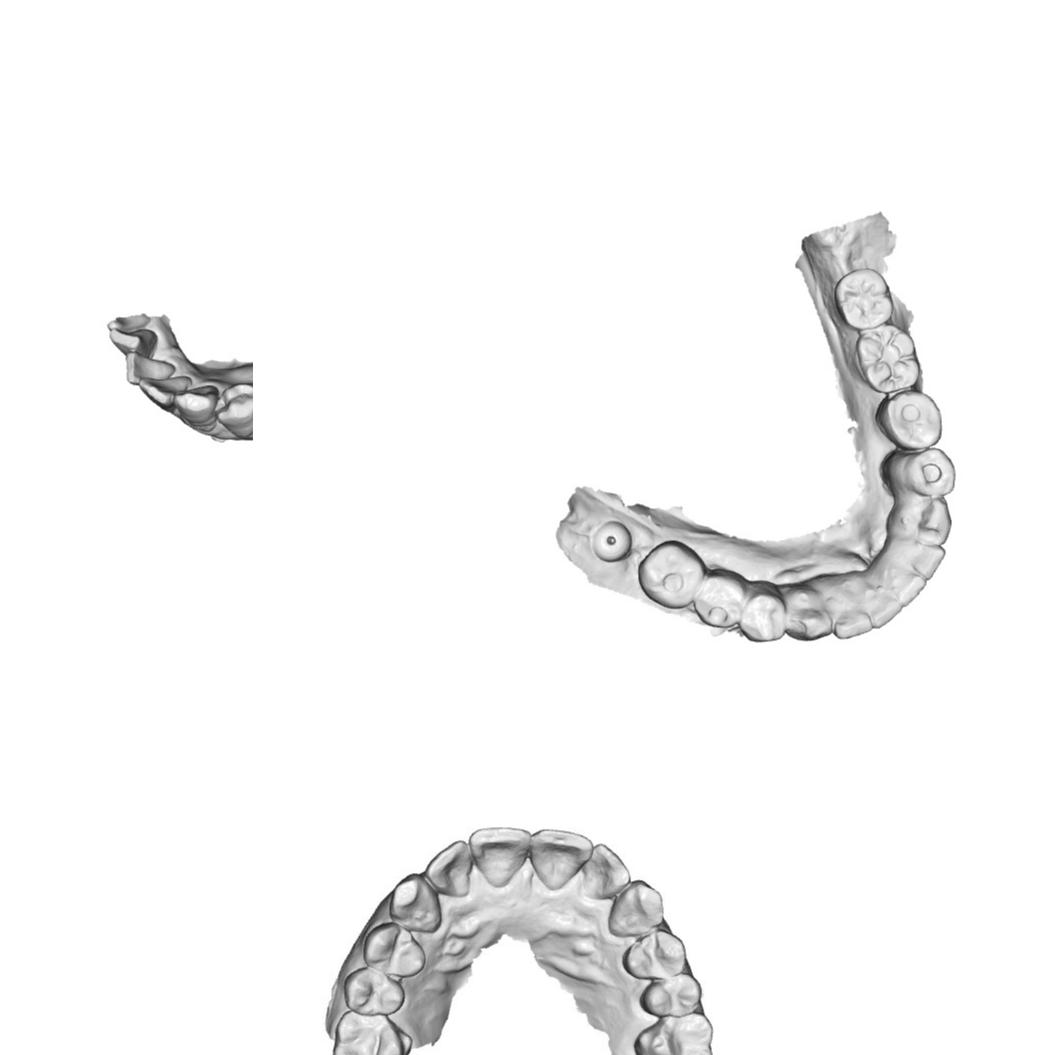canine: (386, 871, 444, 934), (606, 878, 666, 938), (896, 496, 950, 548), (784, 585, 832, 640), (172, 383, 219, 433)
implant: (592, 517, 634, 565)
incisor: (528, 827, 596, 891), (469, 825, 532, 889), (422, 838, 474, 898), (580, 842, 632, 900), (136, 374, 192, 413), (124, 350, 176, 386), (903, 540, 948, 581), (866, 586, 905, 630), (832, 600, 872, 641), (108, 328, 158, 360), (889, 568, 928, 606)
molar: (637, 538, 702, 609), (831, 267, 898, 334), (855, 326, 917, 393), (632, 1013, 715, 1055)
premolar: (361, 921, 428, 978), (620, 927, 689, 982), (880, 390, 943, 449), (893, 446, 960, 501), (695, 568, 749, 635), (341, 966, 406, 1017), (638, 972, 704, 1019), (740, 588, 787, 641), (213, 382, 253, 439)
